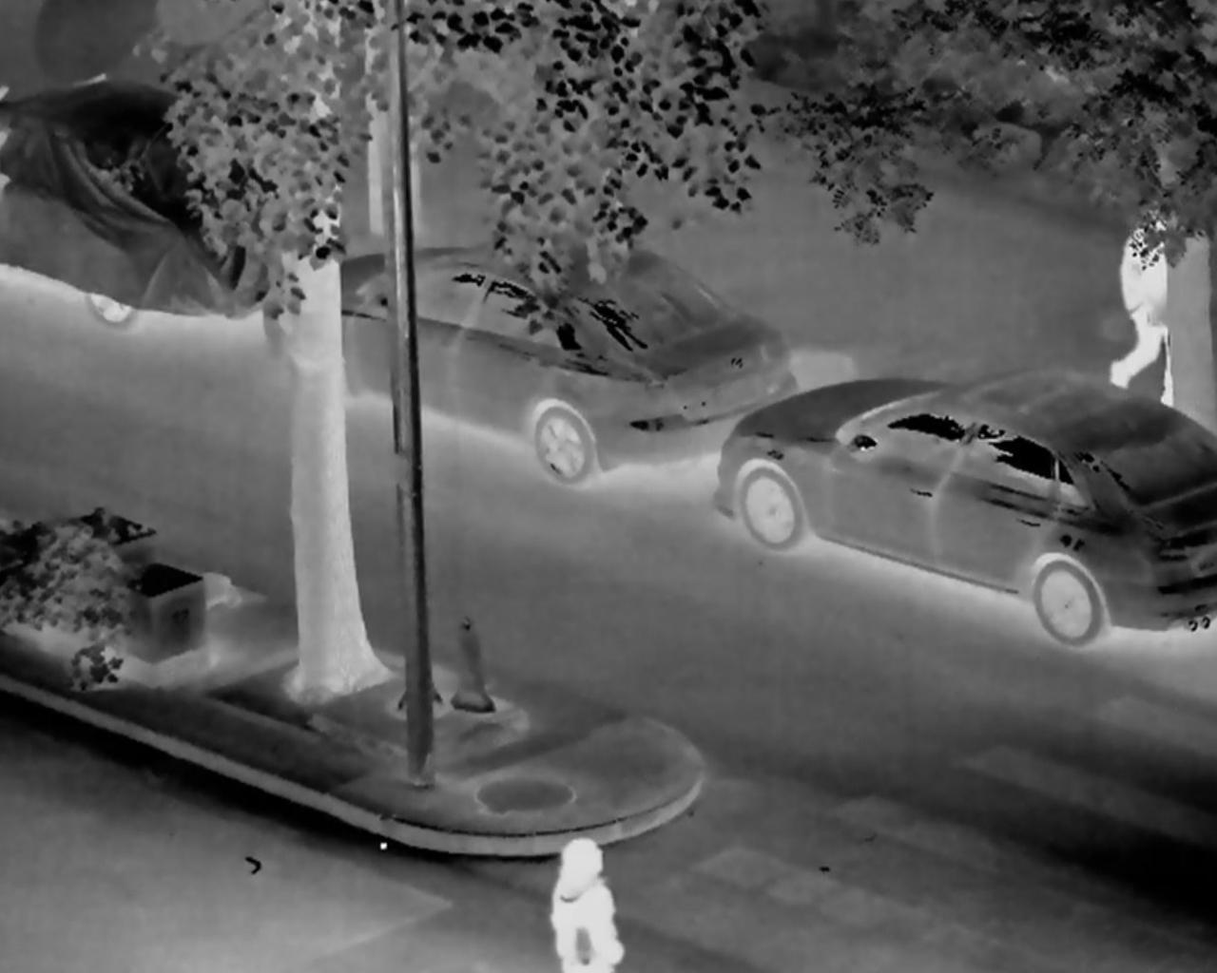person: (1086, 185, 1210, 455), (524, 833, 635, 973)
